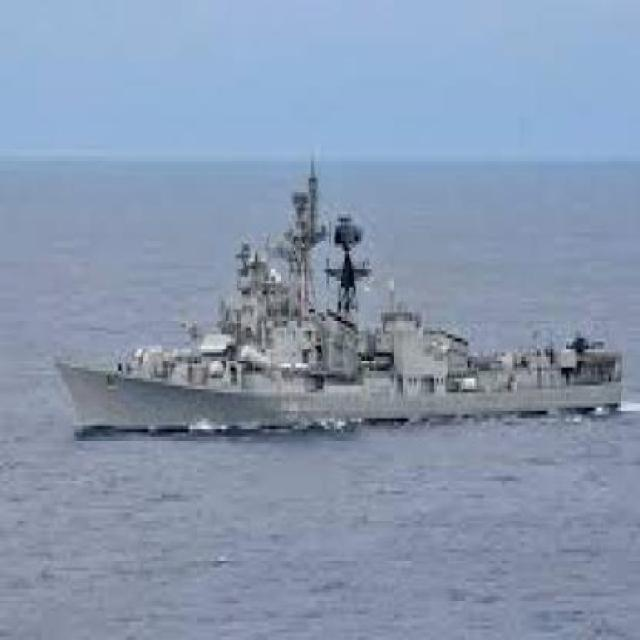warship2: (50, 157, 635, 445)
